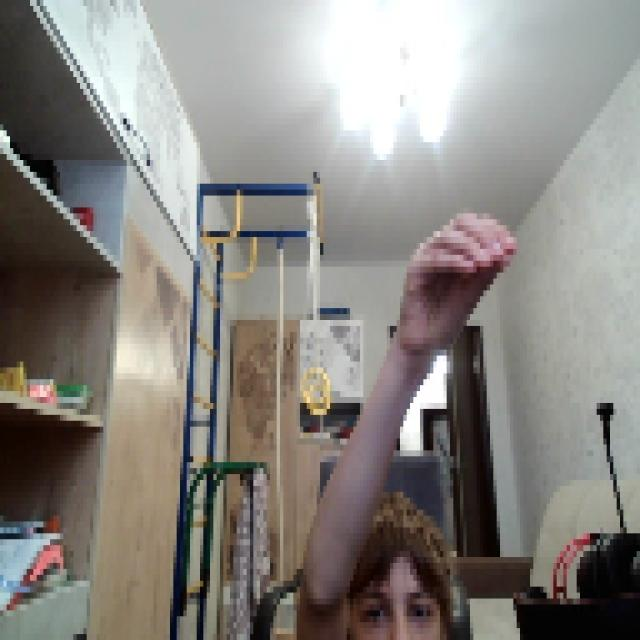left_click: (400, 202, 513, 350)
